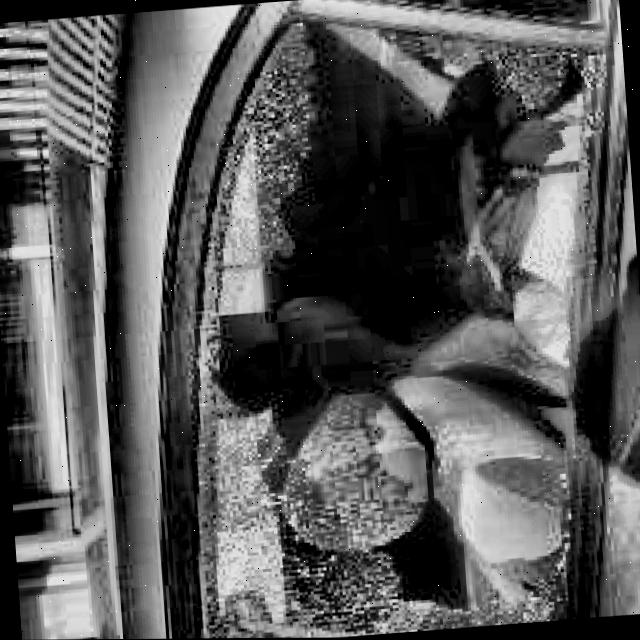glass_shatter: (212, 242, 572, 638), (283, 10, 582, 270)
